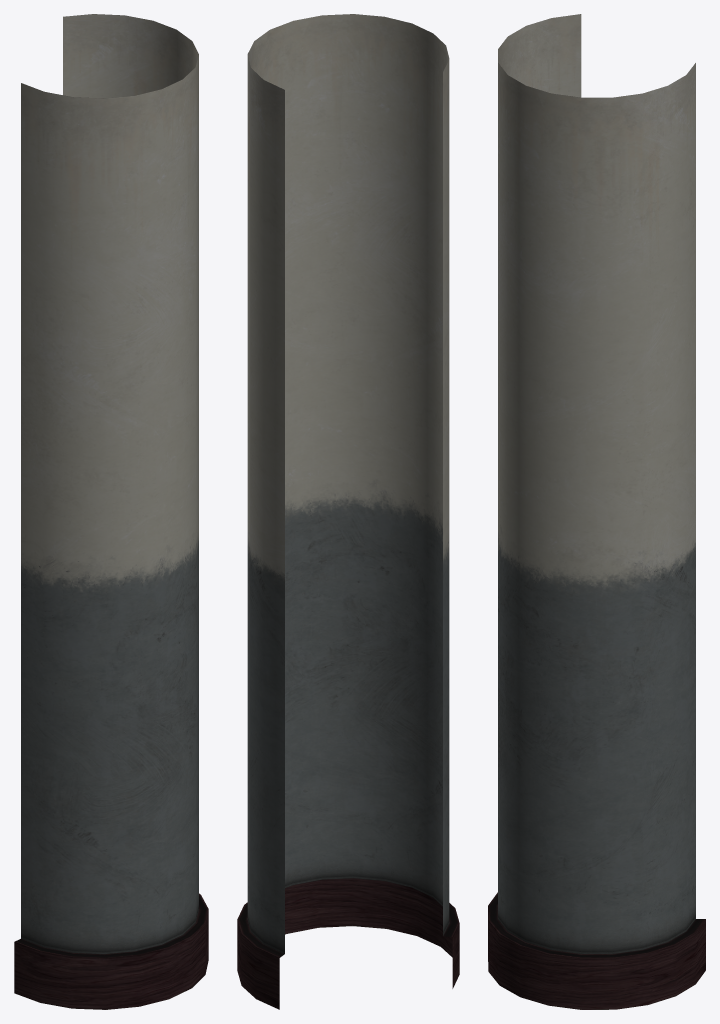
File: Wall 4 Corner Pillar 3.fbx
The picture shows the model from 3 angles, left to right: view 1: azimuth 30°, elevation 25°; view 2: azimuth 150°, elevation 25°; view 3: azimuth 270°, elevation 25°; orthographic projection.
Parts seen in each view (by area): view 1: Wall_4_Corner_Pillar_3; view 2: Wall_4_Corner_Pillar_3; view 3: Wall_4_Corner_Pillar_3.
Part boxes in pixels (x1,y1,x2,y2): Wall_4_Corner_Pillar_3: (14, 14, 208, 1009); Wall_4_Corner_Pillar_3: (237, 14, 459, 1009); Wall_4_Corner_Pillar_3: (488, 14, 705, 1009).
Bounding box in the file's own units: 65.11 × 300 × 65.26.
